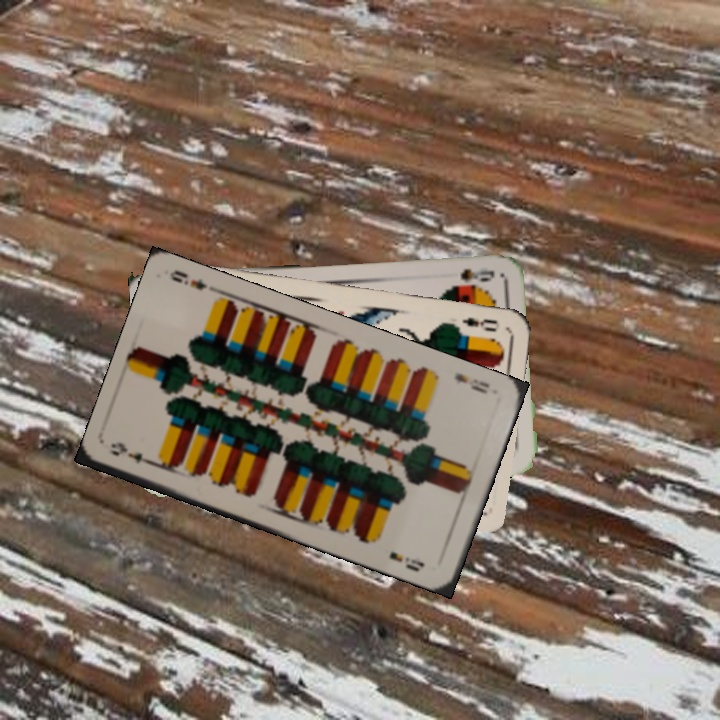E9: (105, 438, 163, 471), (450, 369, 492, 397)
EO: (448, 313, 500, 335)
SO: (456, 265, 497, 285)
